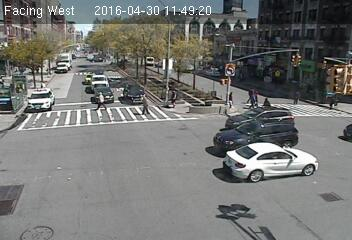pos: (132, 89, 154, 118), (91, 90, 110, 115), (165, 85, 182, 109), (223, 87, 240, 110), (290, 87, 304, 105)
